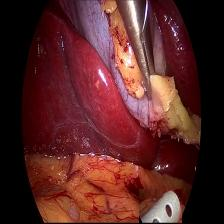Grasper: (114, 0, 160, 101)
Irrigator: (139, 189, 182, 224)
